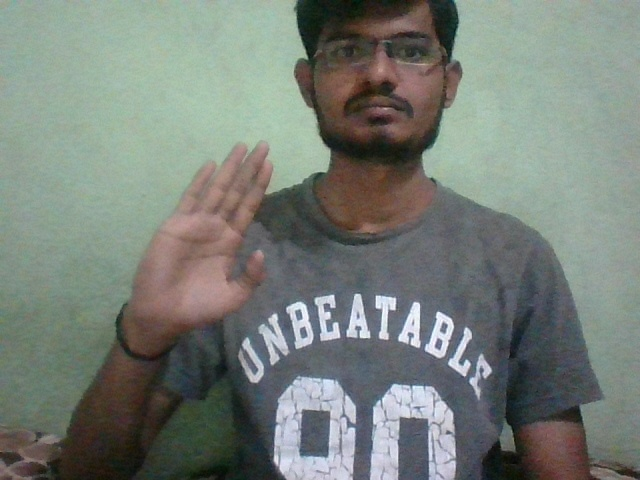Hello: (145, 142, 279, 342)
